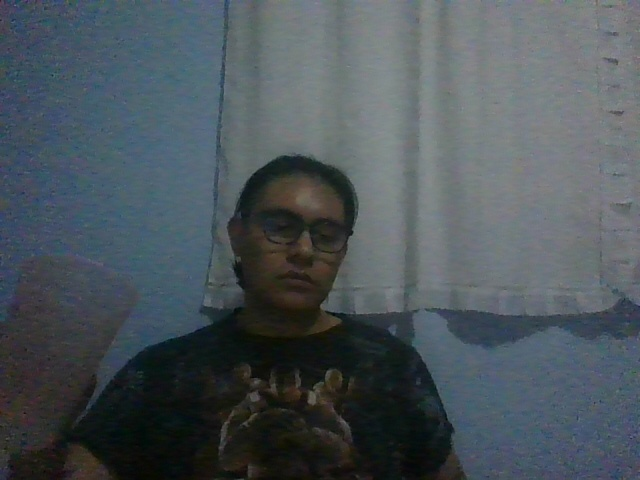vaso: (1, 253, 142, 452)
